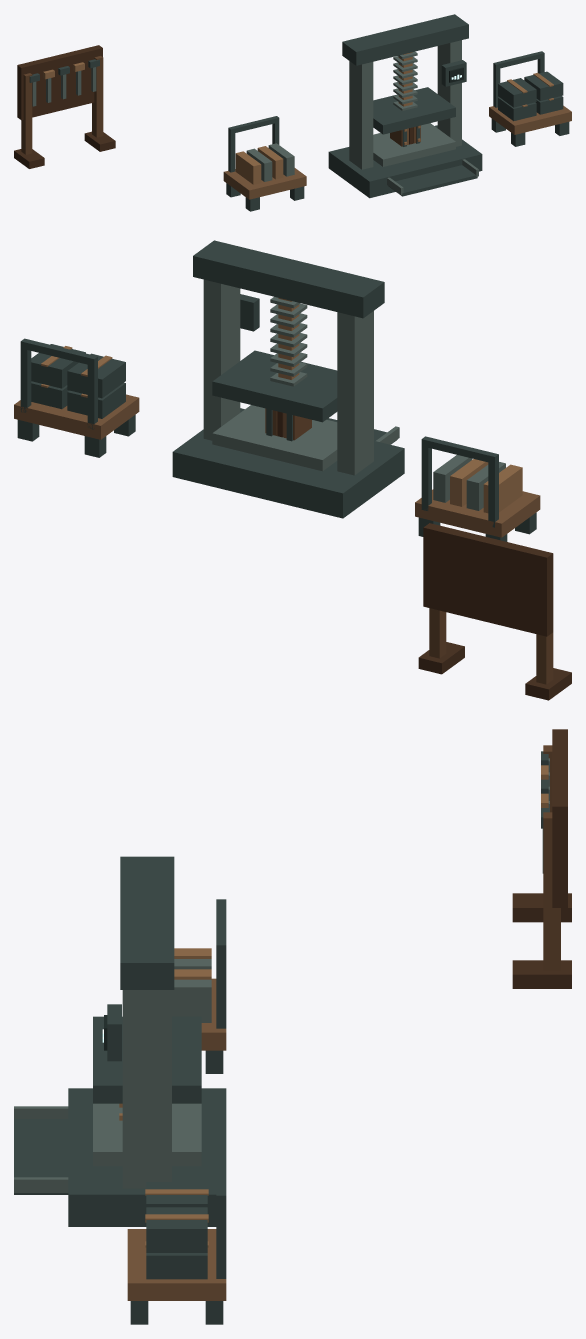
Rendered from B33_compress.glb.
The picture shows the model from 3 angles, top to bottom: view 1: azimuth 30°, elevation 25°; view 2: azimuth 150°, elevation 25°; view 3: azimuth 270°, elevation 25°; orthographic projection. The views are drawn at different scales.
Parts seen in each view (by area): view 1: B33_compress__main_station_PressPillar_edge, B33_compress__main_station_PressBase_iron, B33_compress__main_station_PressBeam_iron, B33_compress__maintenance_ToolBoard_wooddark, B33_compress__finished_blocks_CompressedBlock_iron, B33_compress__main_station_PressPlate_iron, B33_compress__main_station_Bed_edge, B33_compress__maintenance_ToolStand_wood, B33_compress__raw_materials_CartBed_woodlight, B33_compress__main_station_Tray_iron, B33_compress__finished_blocks_CartBed_woodlight, B33_compress__main_station_ScrewRidge_edge (+12 smaller); view 2: B33_compress__maintenance_ToolBoard_wooddark, B33_compress__main_station_PressPillar_edge, B33_compress__main_station_PressBase_iron, B33_compress__main_station_PressBeam_iron, B33_compress__main_station_PressPlate_iron, B33_compress__main_station_Bed_edge, B33_compress__finished_blocks_CompressedBlock_iron, B33_compress__raw_materials_CartBed_woodlight, B33_compress__finished_blocks_CartBed_woodlight, B33_compress__main_station_ScrewRidge_edge, B33_compress__finished_blocks_CartHandle_iron, B33_compress__raw_materials_CartHandle_iron (+7 smaller); view 3: B33_compress__main_station_PressPillar_edge, B33_compress__main_station_PressBase_iron, B33_compress__main_station_PressBeam_iron, B33_compress__finished_blocks_CompressedBlock_iron, B33_compress__main_station_PressPlate_iron, B33_compress__main_station_Bed_edge, B33_compress__finished_blocks_CartBed_woodlight, B33_compress__main_station_Tray_iron, B33_compress__maintenance_ToolBoard_wooddark, B33_compress__maintenance_ToolFoot_wooddark, B33_compress__maintenance_ToolStand_wood, B33_compress__raw_materials_RawMaterial_edge (+8 smaller).
Boxes of the visible parts, bbox=[...] form: B33_compress__main_station_PressPillar_edge: bbox=[349, 40, 461, 169]; B33_compress__main_station_PressBase_iron: bbox=[328, 125, 482, 198]; B33_compress__main_station_PressBeam_iron: bbox=[342, 14, 468, 65]; B33_compress__maintenance_ToolBoard_wooddark: bbox=[17, 45, 102, 120]; B33_compress__finished_blocks_CompressedBlock_iron: bbox=[498, 71, 563, 121]; B33_compress__main_station_PressPlate_iron: bbox=[373, 87, 455, 134]; B33_compress__main_station_Bed_edge: bbox=[373, 123, 455, 166]; B33_compress__maintenance_ToolStand_wood: bbox=[21, 56, 103, 154]; B33_compress__raw_materials_CartBed_woodlight: bbox=[223, 168, 306, 199]; B33_compress__main_station_Tray_iron: bbox=[388, 165, 477, 196]; B33_compress__finished_blocks_CartBed_woodlight: bbox=[489, 105, 571, 134]; B33_compress__main_station_ScrewRidge_edge: bbox=[393, 51, 417, 110]; B33_compress__maintenance_ToolBoard_wooddark: bbox=[423, 523, 553, 636]; B33_compress__main_station_PressPillar_edge: bbox=[203, 279, 373, 475]; B33_compress__main_station_PressBase_iron: bbox=[172, 408, 404, 518]; B33_compress__main_station_PressBeam_iron: bbox=[193, 240, 384, 318]; B33_compress__main_station_PressPlate_iron: bbox=[212, 350, 337, 422]; B33_compress__main_station_Bed_edge: bbox=[212, 405, 337, 471]; B33_compress__finished_blocks_CompressedBlock_iron: bbox=[31, 344, 125, 418]; B33_compress__raw_materials_CartBed_woodlight: bbox=[415, 489, 540, 537]; B33_compress__finished_blocks_CartBed_woodlight: bbox=[14, 394, 139, 439]; B33_compress__main_station_ScrewRidge_edge: bbox=[270, 296, 307, 386]; B33_compress__finished_blocks_CartHandle_iron: bbox=[20, 338, 97, 429]; B33_compress__raw_materials_CartHandle_iron: bbox=[421, 436, 498, 527]; B33_compress__main_station_PressPillar_edge: bbox=[122, 990, 171, 1188]; B33_compress__main_station_PressBase_iron: bbox=[68, 1088, 226, 1226]; B33_compress__main_station_PressBeam_iron: bbox=[120, 856, 174, 989]; B33_compress__finished_blocks_CompressedBlock_iron: bbox=[146, 1182, 207, 1279]; B33_compress__main_station_PressPlate_iron: bbox=[93, 1016, 201, 1103]; B33_compress__main_station_Bed_edge: bbox=[93, 1103, 201, 1166]; B33_compress__finished_blocks_CartBed_woodlight: bbox=[127, 1229, 226, 1300]; B33_compress__main_station_Tray_iron: bbox=[14, 1119, 68, 1194]; B33_compress__maintenance_ToolBoard_wooddark: bbox=[552, 729, 567, 907]; B33_compress__maintenance_ToolFoot_wooddark: bbox=[512, 893, 571, 988]; B33_compress__maintenance_ToolStand_wood: bbox=[543, 745, 560, 970]; B33_compress__raw_materials_RawMaterial_edge: bbox=[172, 959, 211, 1022].
Size of the model in its own units: 10.03 by 2.95 by 5.65.
